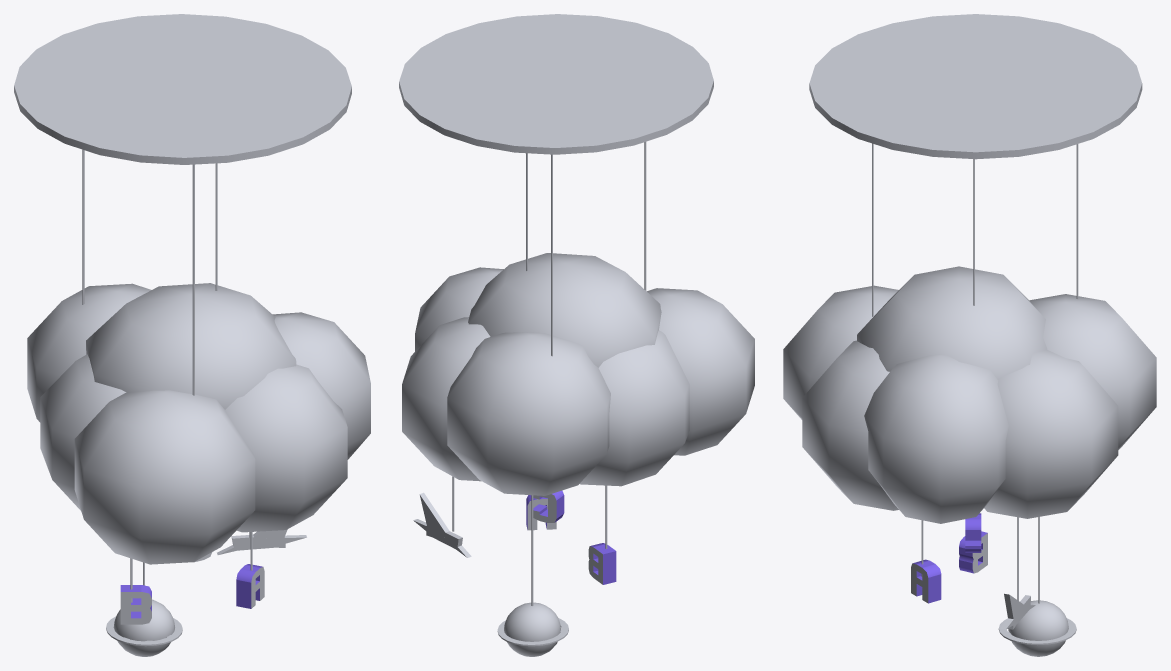
Rendered from 婴儿吊灯.fbx.
The picture shows the model from 3 angles, left to right: view 1: azimuth 30°, elevation 25°; view 2: azimuth 150°, elevation 25°; view 3: azimuth 270°, elevation 25°; orthographic projection. The views are drawn at different scales.
Parts seen in each view (by area): view 1: body_round (×6), cylinder (×2), sphere, B, A, ring_inner; view 2: body_round (×6), cylinder, sphere, B, C, blockTriangle, ring_inner; view 3: body_round (×6), cylinder, sphere, A, B, C, ring_inner.
Part boxes in pixels (box(x1,y1,x2,y2)): body_round (×6): box(27, 283, 370, 564); cylinder (×2): box(14, 14, 351, 395); sphere: box(113, 599, 174, 656); B: box(120, 585, 151, 624); A: box(236, 564, 264, 608); ring_inner: box(106, 616, 182, 646); body_round (×6): box(402, 253, 754, 495); cylinder: box(399, 14, 713, 154); sphere: box(504, 602, 560, 656); B: box(588, 543, 616, 584); C: box(533, 490, 564, 522); blockTriangle: box(419, 492, 454, 548); ring_inner: box(497, 618, 568, 646); body_round (×6): box(783, 266, 1156, 523); cylinder: box(809, 14, 1142, 159); sphere: box(1008, 600, 1068, 656); A: box(911, 559, 941, 603); B: box(959, 531, 987, 573); C: box(965, 513, 981, 552); ring_inner: box(998, 618, 1076, 645).
Bounding box in the file's own units: 18.51 × 33.09 × 19.51.
